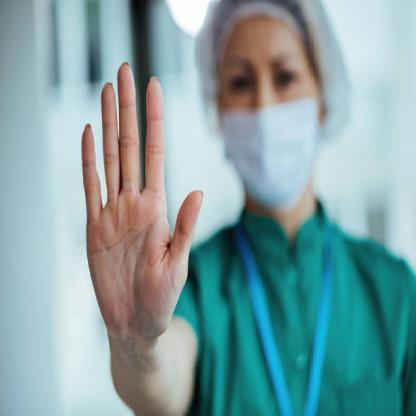stop: (79, 59, 204, 344)
